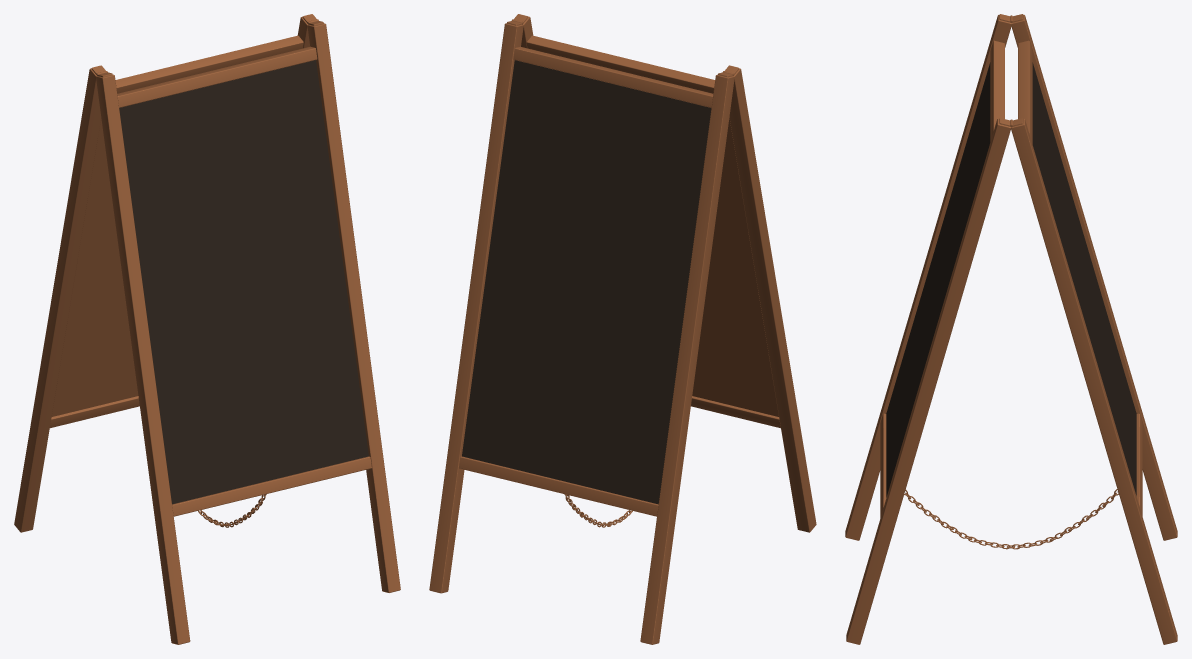
The model's file is Sign.FBX.
3 renders of one model, left to right at view 1: azimuth 30°, elevation 25°; view 2: azimuth 150°, elevation 25°; view 3: azimuth 270°, elevation 25°, orthographic.
Parts seen in each view (by area): view 1: Sign; view 2: Sign; view 3: Sign.
Boxes of the visible parts, x1,y1,x2,y2 form: Sign: (14,14,400,644); Sign: (429,14,816,644); Sign: (845,14,1177,644).
Bounding box in the file's own units: 53 × 117 × 67.45.
